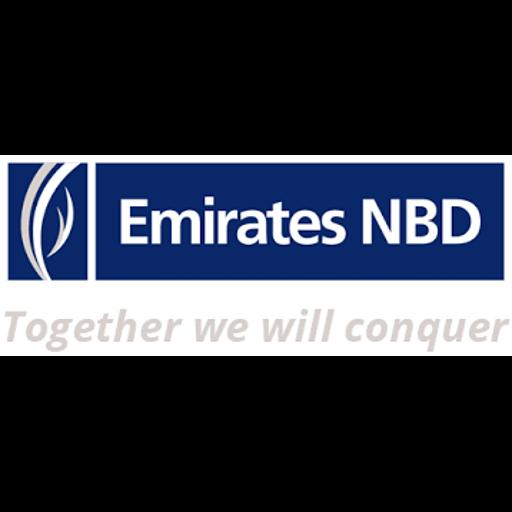Emirates NBD: (0, 155, 512, 356)
